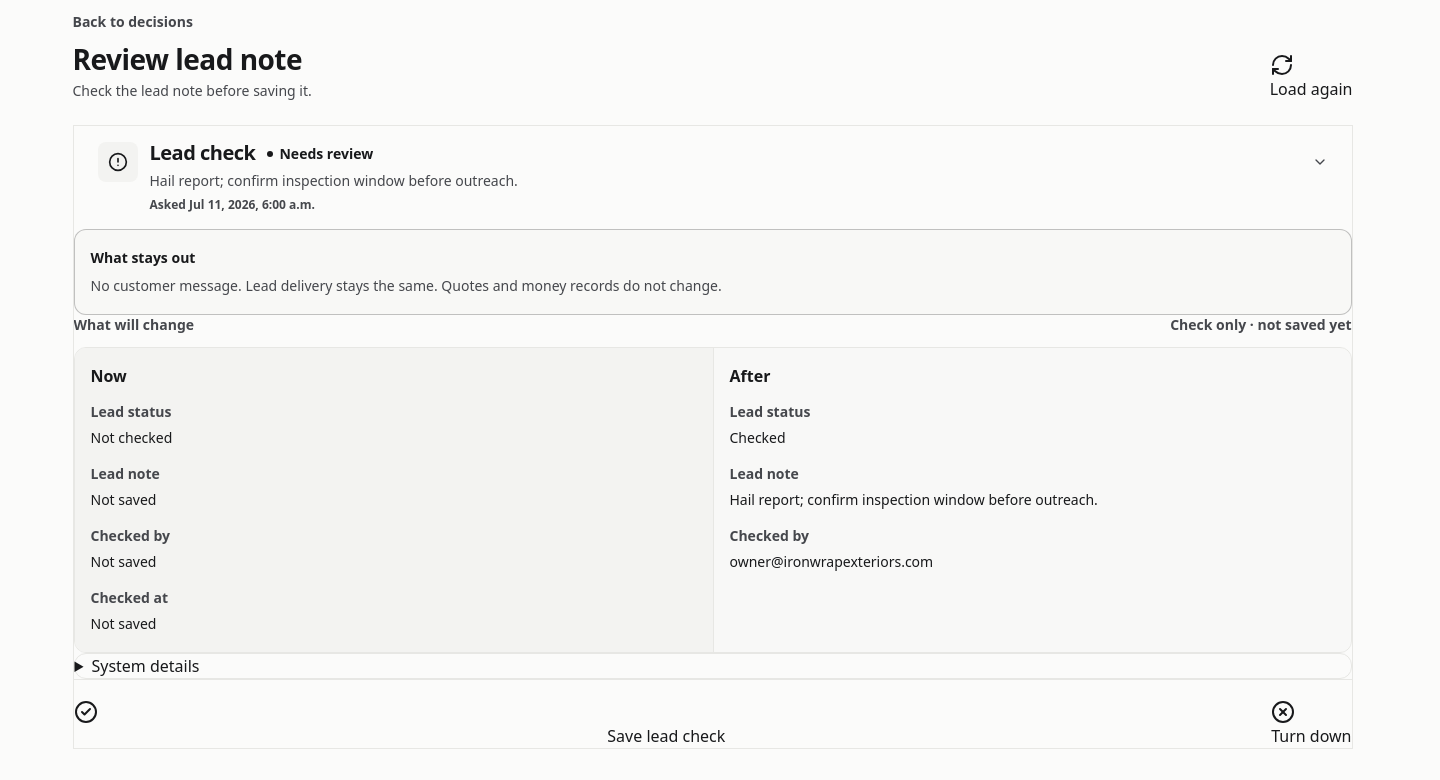
Test: ApprovalInboxPage › requires a fresh native read after a failed refresh and after an uncertain mutation
Check: the button "Save lead check" is shown, box [74,700,1259,748]
Step 1. Click the button "Load again" → {"x": 1311, "y": 77}, box [1270,53,1352,101]
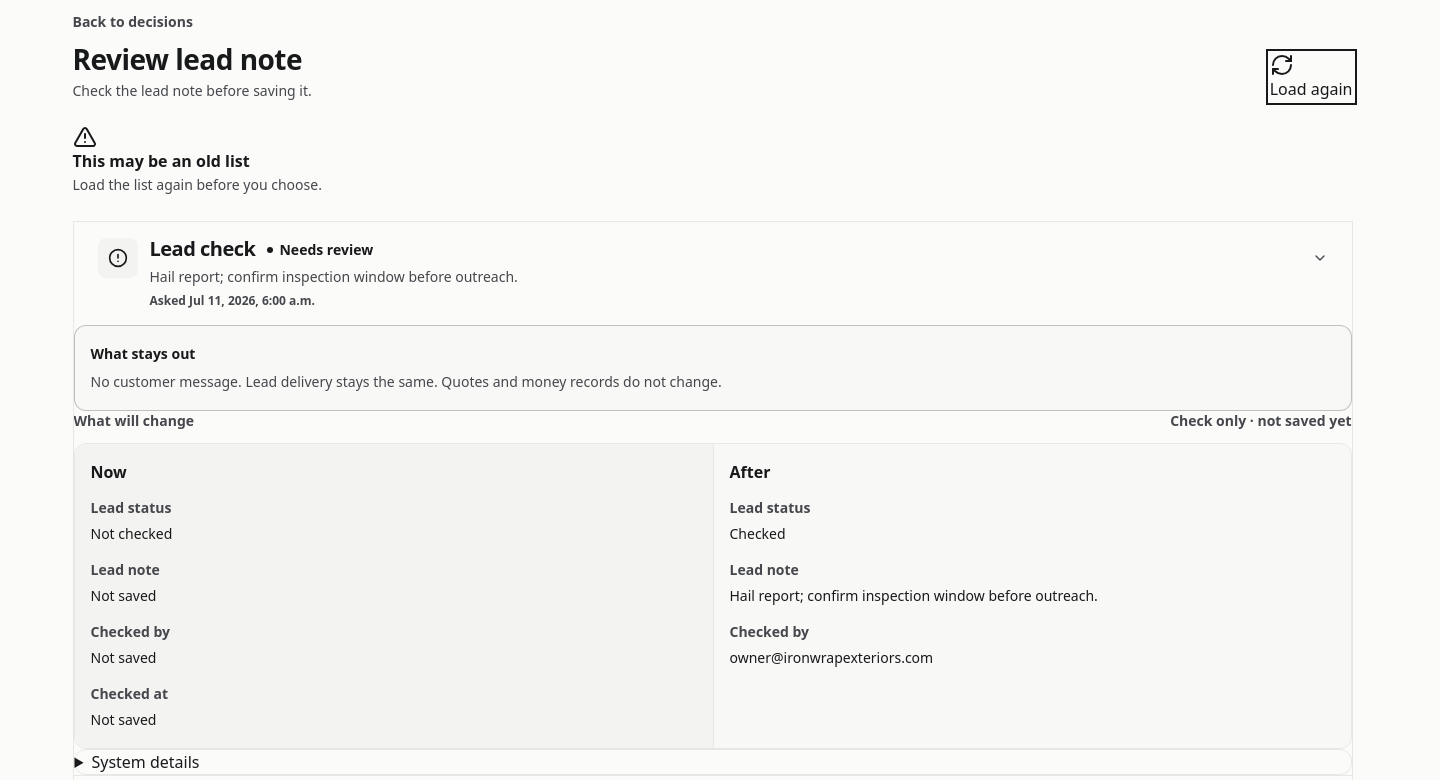
Check: the text "This may be an old list" is shown, box [72,150,250,172]
Check: the button "Save lead check" is gone
Step 2. Click the button "Load again" → {"x": 1311, "y": 77}, box [1270,53,1352,101]
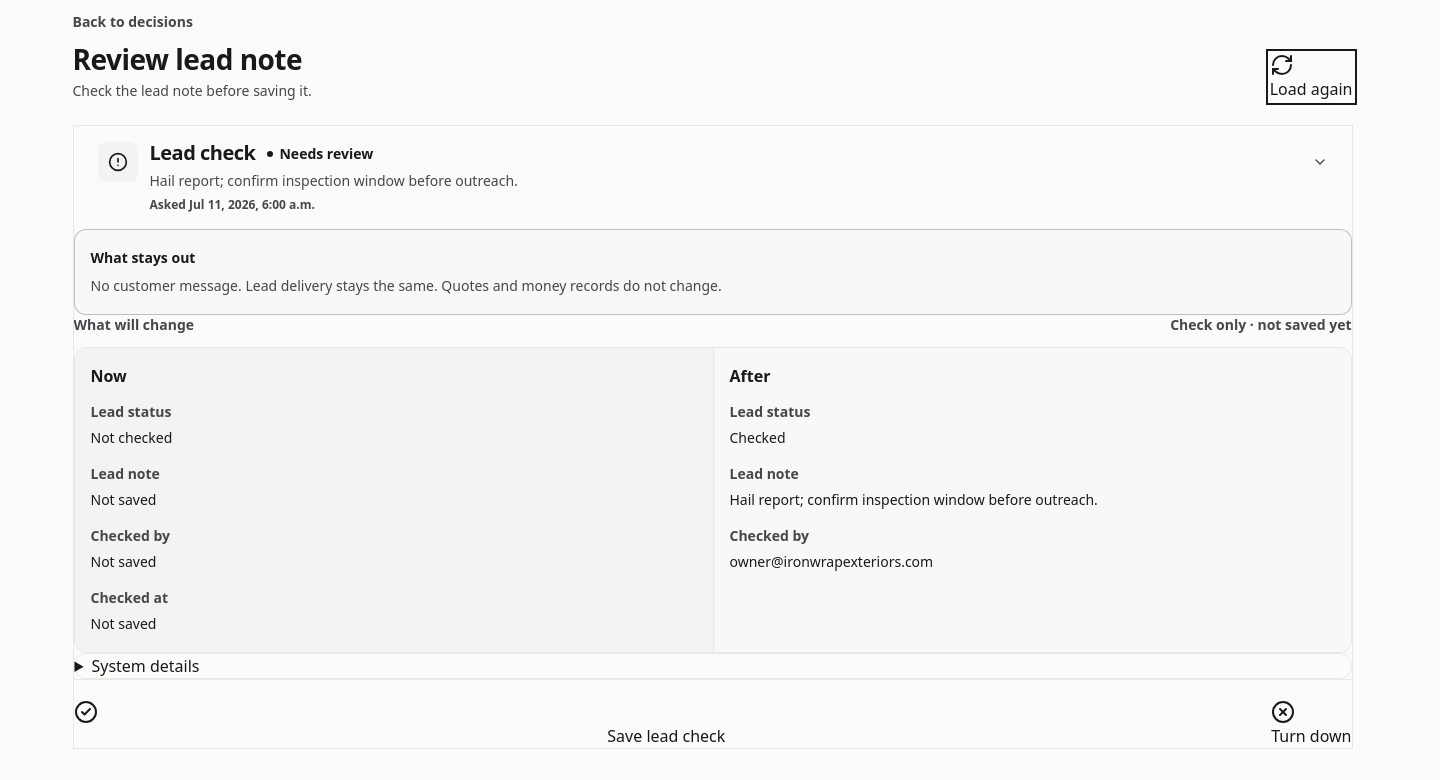
Step 3. Click the button "Save lead check" → {"x": 666, "y": 724}, box [74,700,1259,748]
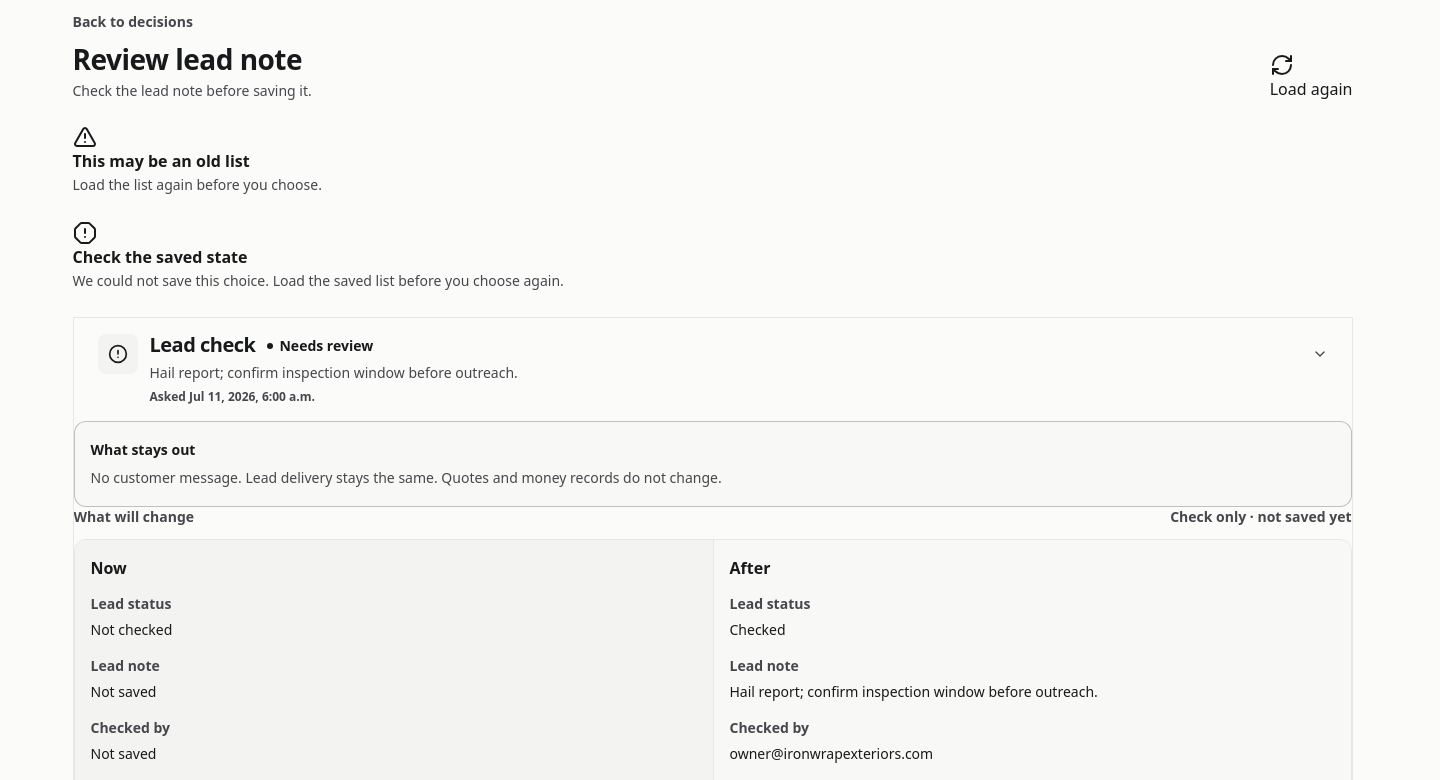
Check: the text "Check the saved state" is shown, box [72,246,248,268]
Check: the text "This may be an old list" is shown, box [72,150,250,172]
Check: the button "Save lead check" is gone
